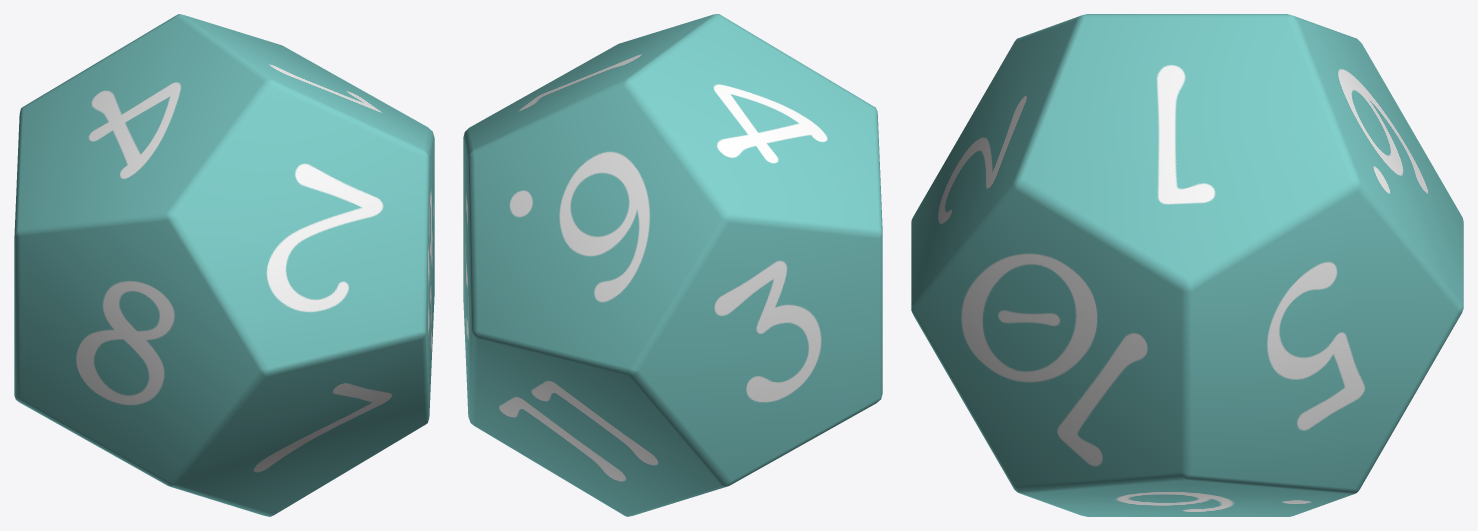
3 views of the same model, side by side, from view 1: azimuth 30°, elevation 25°; view 2: azimuth 150°, elevation 25°; view 3: azimuth 270°, elevation 25° (orthographic). The views are drawn at different scales.
Parts seen in each view (by area): view 1: dodecahedron; view 2: dodecahedron; view 3: dodecahedron.
Boxes of the visible parts, <box> form: dodecahedron: <box>14,14,434,516</box>; dodecahedron: <box>463,14,882,516</box>; dodecahedron: <box>911,14,1463,516</box>.
Bounding box in the file's own units: 1.85 × 1.85 × 1.85.
Materials: 1 (1 with a texture image).
